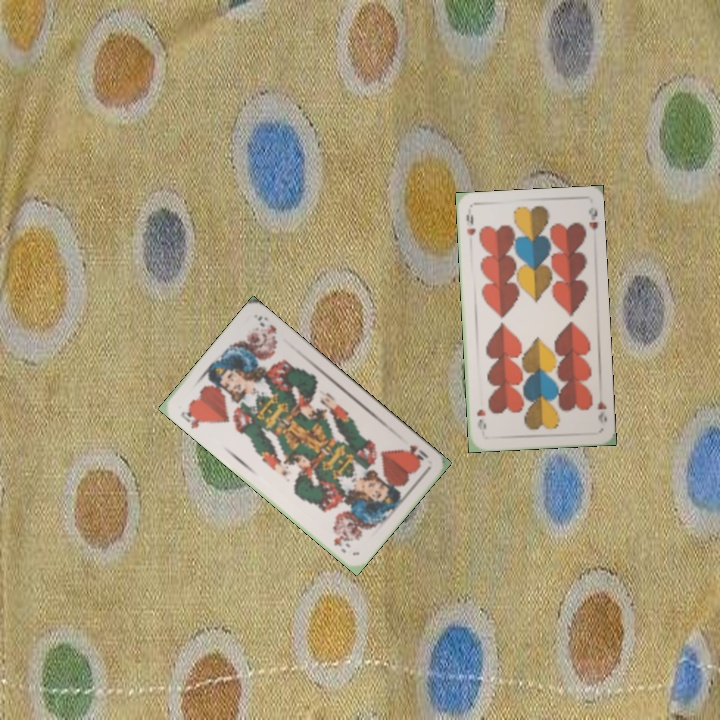H9: (593, 389, 609, 425), (462, 207, 478, 238)
HO: (176, 404, 208, 431), (400, 441, 431, 465)
